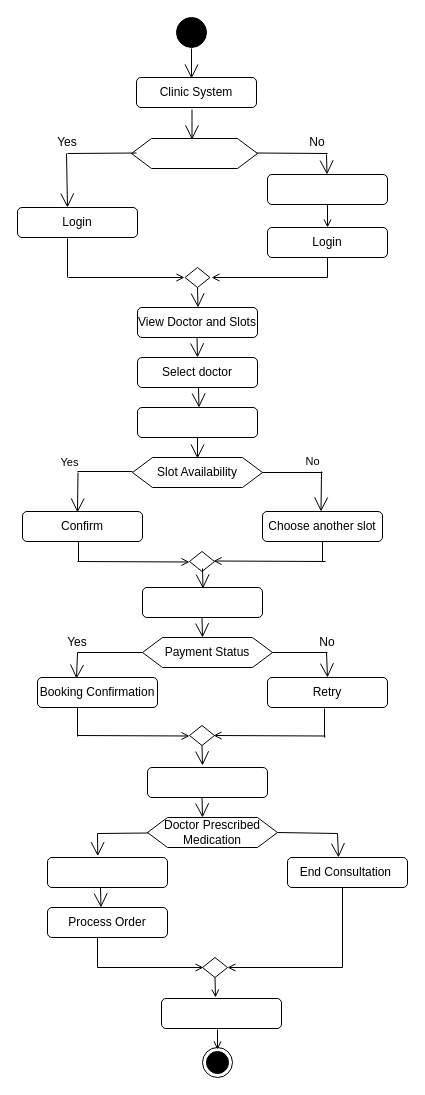
The diagram is 425 pixels wide and 1095 high, and some of its shapes have lost their labels. Each missing label, with the centre of its shape:
"Attend Consultation" belongs at point (207, 782).
"Choose Appointment" belongs at point (197, 422).
"Existing Patient" belongs at point (194, 153).
"Logout" belongs at point (221, 1013).
"Order Medication" belongs at point (107, 872).
"Process Payment" belongs at point (202, 602).
"Register" belongs at point (327, 189).
